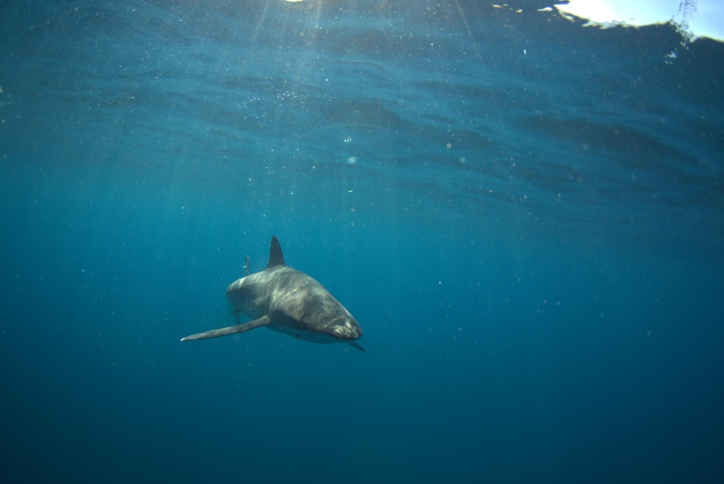Sedoso: (158, 226, 383, 370)
